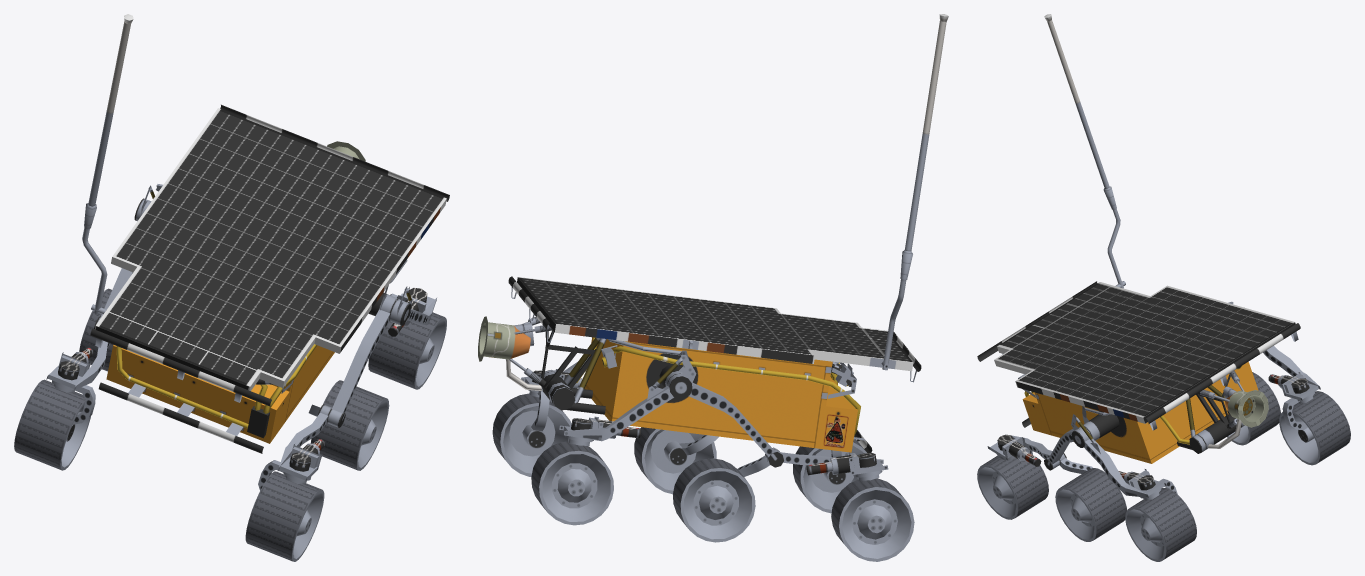
The model's file is sojourner-rover.glb.
The picture shows the model from 3 angles, left to right: view 1: azimuth 30°, elevation 25°; view 2: azimuth 150°, elevation 25°; view 3: azimuth 270°, elevation 25°; orthographic projection. The views are drawn at different scales.
Visible parts, largest first — view 1: Solar_collector, Main_body, Wheel_FL, Wheel_FR, Wheel_ML, Wheel_RL, Antenna, Middle_bogey_L, Front_bumper, Lower_bumper, Thick_cable, Rear_bumper (+8 smaller); view 2: Solar_collector, Main_body, Wheel_MR, Wheel_FR, Wheel_RR, Wheel_RL, Wheel_ML, Antenna, Wheel_FL, APXS, Thick_cable, Rear_bogey_R (+10 smaller); view 3: Solar_collector, Main_body, Wheel_ML, Wheel_RL, Wheel_FL, Wheel_RR, Antenna, Rear_bumper, APXS, Wheel_MR, Rear_bogey_L, Main_bogey_joints (+7 smaller).
Part boxes in pixels (x1=…): Solar_collector: x1=94, y1=108, x2=446, y2=390; Main_body: x1=106, y1=345, x2=334, y2=443; Wheel_FL: x1=245, y1=471, x2=324, y2=561; Wheel_FR: x1=14, y1=379, x2=90, y2=470; Wheel_ML: x1=310, y1=380, x2=389, y2=470; Wheel_RL: x1=368, y1=312, x2=446, y2=389; Antenna: x1=82, y1=14, x2=133, y2=314; Middle_bogey_L: x1=332, y1=309, x2=390, y2=413; Front_bumper: x1=90, y1=328, x2=271, y2=406; Lower_bumper: x1=98, y1=382, x2=263, y2=453; Thick_cable: x1=116, y1=344, x2=316, y2=428; Rear_bumper: x1=220, y1=104, x2=449, y2=201; Solar_collector: x1=517, y1=277, x2=913, y2=371; Main_body: x1=584, y1=337, x2=857, y2=452; Wheel_MR: x1=673, y1=458, x2=755, y2=542; Wheel_FR: x1=831, y1=478, x2=914, y2=561; Wheel_RR: x1=531, y1=441, x2=613, y2=525; Wheel_RL: x1=492, y1=393, x2=571, y2=476; Wheel_ML: x1=634, y1=427, x2=716, y2=494; Antenna: x1=882, y1=14, x2=948, y2=370; Wheel_FL: x1=793, y1=439, x2=866, y2=513; APXS: x1=478, y1=316, x2=530, y2=361; Thick_cable: x1=576, y1=337, x2=860, y2=436; Rear_bogey_R: x1=564, y1=386, x2=673, y2=441; Solar_collector: x1=994, y1=282, x2=1295, y2=423; Main_body: x1=1022, y1=361, x2=1258, y2=463; Wheel_ML: x1=1055, y1=468, x2=1126, y2=541; Wheel_RL: x1=1125, y1=488, x2=1196, y2=561; Wheel_FL: x1=977, y1=453, x2=1048, y2=519; Wheel_RR: x1=1279, y1=391, x2=1350, y2=465; Antenna: x1=1044, y1=14, x2=1123, y2=288; Rear_bumper: x1=1146, y1=323, x2=1300, y2=423; APXS: x1=1225, y1=390, x2=1268, y2=427; Wheel_MR: x1=1227, y1=372, x2=1280, y2=445; Rear_bogey_L: x1=1084, y1=439, x2=1148, y2=497; Main_bogey_joints: x1=1071, y1=412, x2=1119, y2=447.
Size of the model in its own units: 0.8298 by 1.03 by 0.7771.
Materials: 1 (1 with a texture image).
